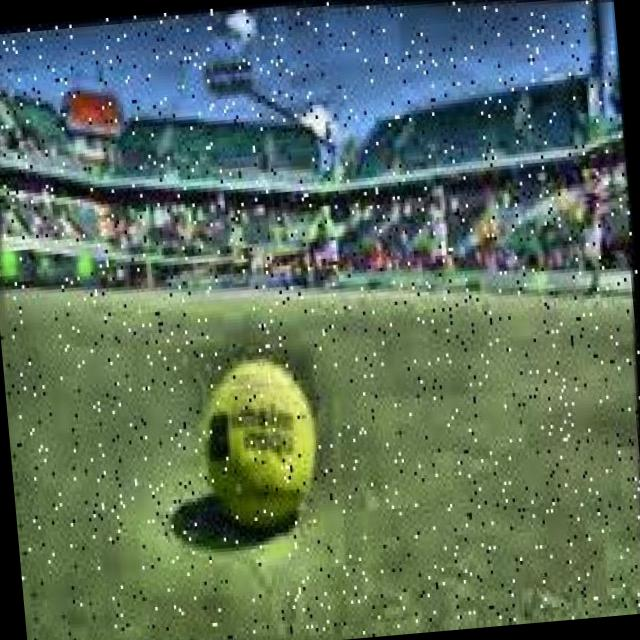Tennis Ball: (173, 337, 332, 548)
